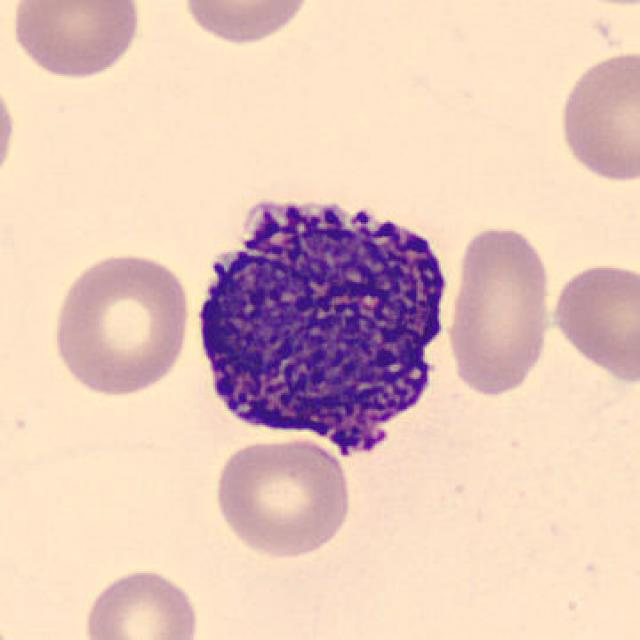Basophil: (182, 176, 460, 478)
RBC: (46, 247, 194, 400), (442, 220, 556, 400), (210, 434, 356, 560), (553, 46, 638, 187), (7, 0, 146, 83), (548, 258, 638, 386), (80, 564, 203, 640), (176, 0, 322, 48), (0, 69, 20, 194), (544, 0, 638, 14), (0, 622, 28, 639)
